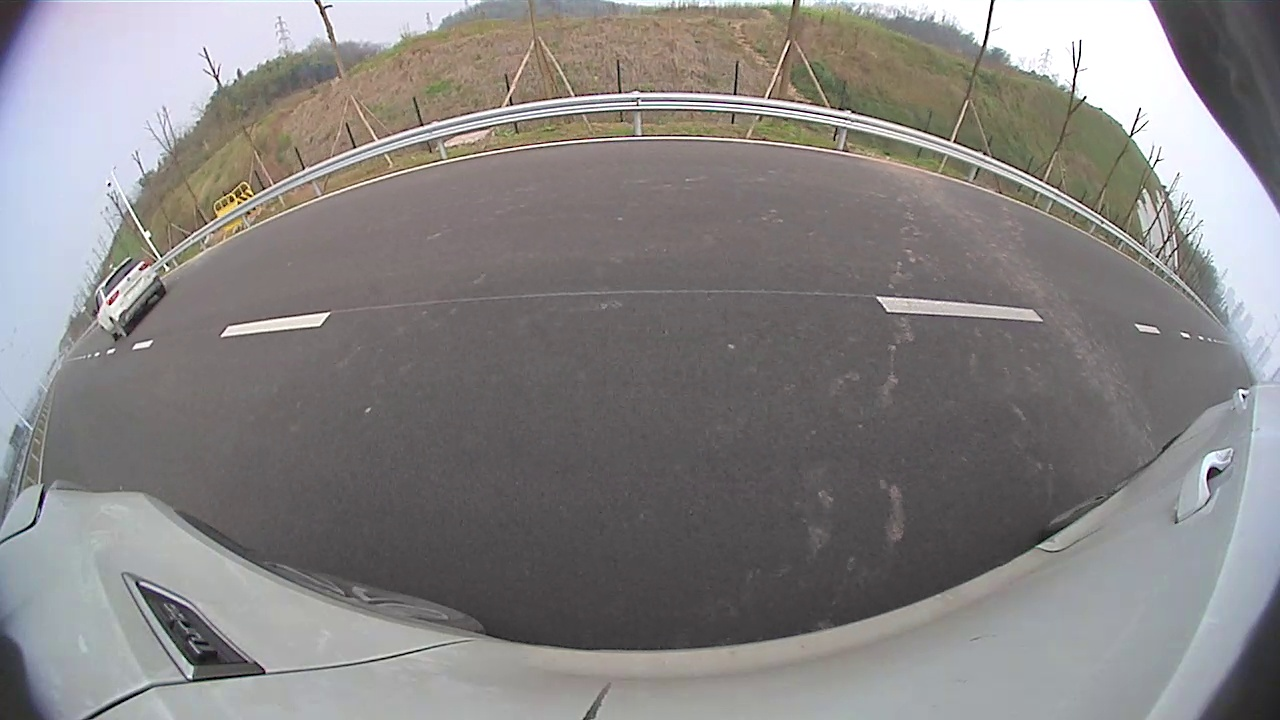car: (455, 1, 931, 252)
front: (857, 187, 912, 250)
rear: (532, 148, 640, 251)
